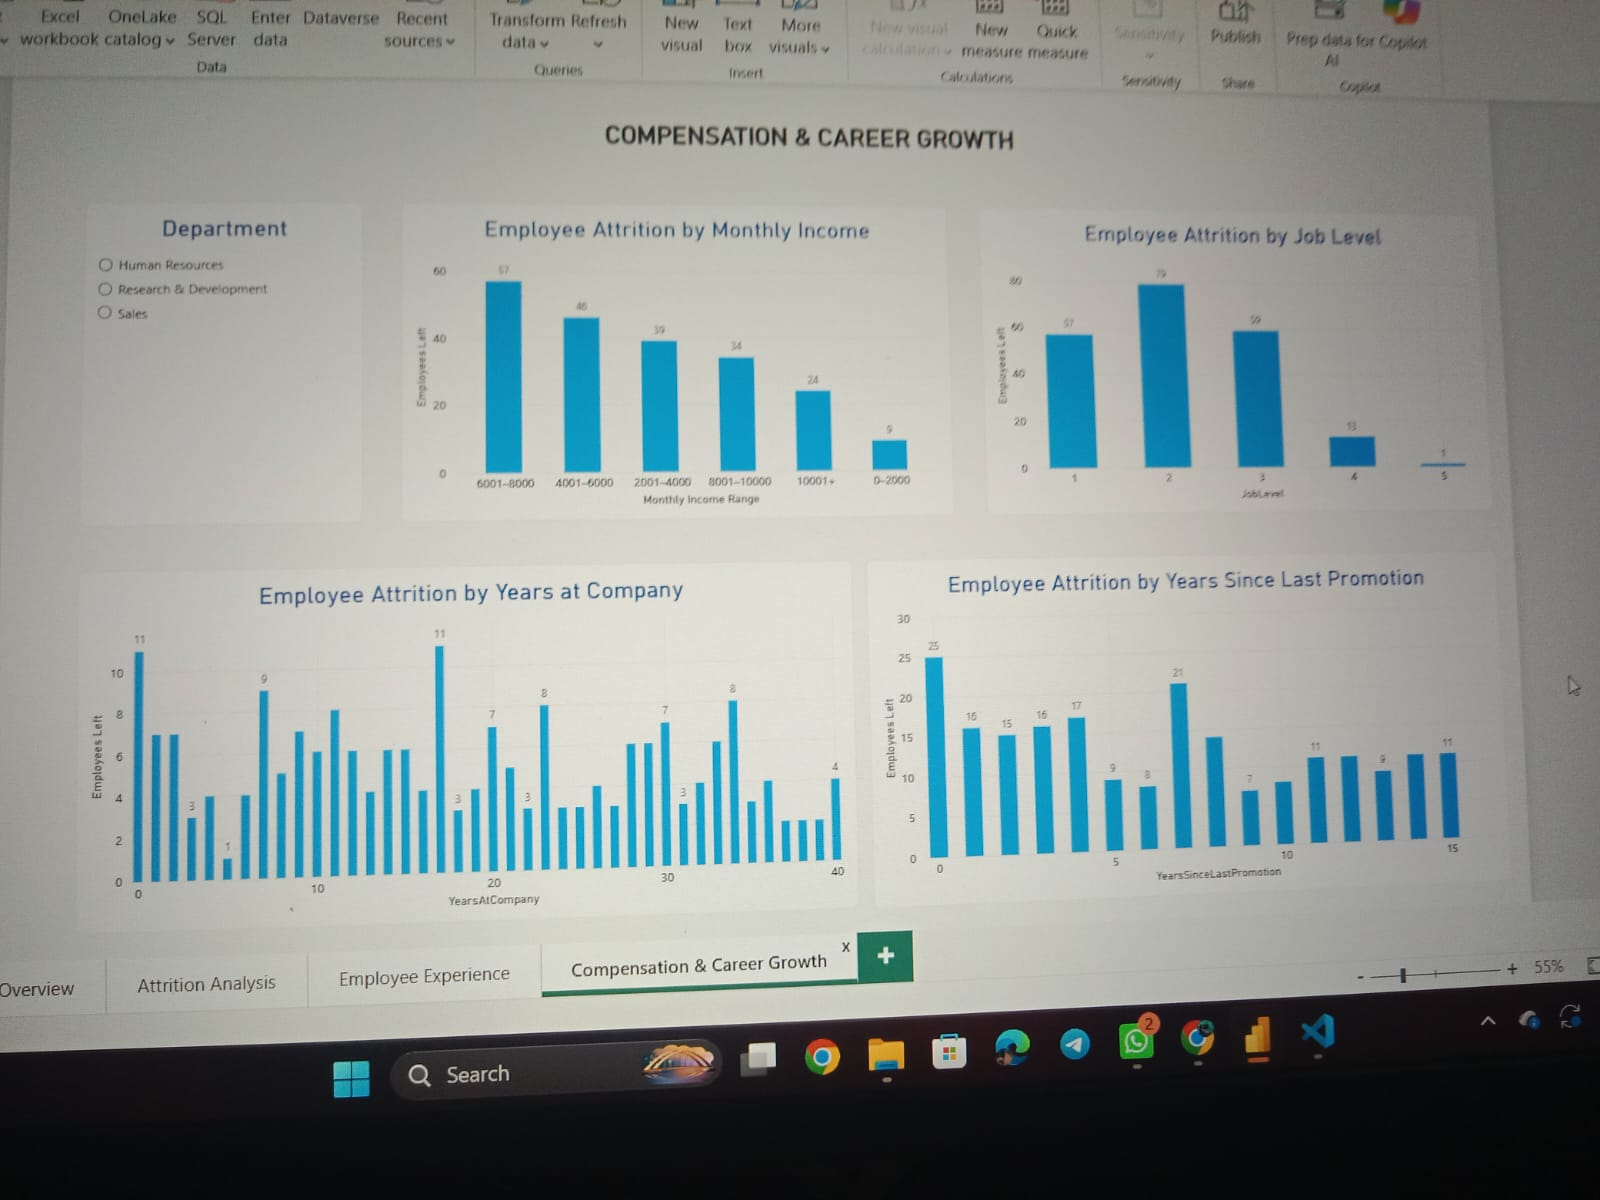

This screenshot's page, from the dashboard's own definition file:
{"tool":"powerbi","page":{"name":"Compensation & Career Growth","canvas":[1920,1080],"ordinal":3},"visuals":[{"type":"clusteredColumnChart","title":"Employee Attrition by Monthly Income","fields":{"Category":["hr_analytics employees.Monthly Income Range"],"Y":["hr_analytics employees.Employees Left"]},"box":[475.9,161.1,689.5,401.7],"z":0},{"type":"clusteredColumnChart","title":"Employee Attrition by Job Level","fields":{"Category":["hr_analytics employees.JobLevel"],"Y":["hr_analytics employees.Employees Left"]},"box":[1207,161.1,687.7,401.7],"z":1},{"type":"clusteredColumnChart","title":"Employee Attrition by Years at Company","fields":{"Category":["hr_analytics employees.YearsAtCompany"],"Y":["hr_analytics employees.Employees Left"]},"box":[92.3,617.1,939.2,432.5],"z":2},{"type":"clusteredColumnChart","title":"Employee Attrition by Years Since Last Promotion","fields":{"Category":["hr_analytics employees.YearsSinceLastPromotion"],"Y":["hr_analytics employees.Employees Left"]},"box":[1049.6,617.1,845.1,434.3],"z":3},{"type":"listSlicer","fields":{"Values":["hr_analytics employees.Department"]},"box":[92.3,161.1,336.6,401.7],"z":4},{"type":"textbox","title":"COMPENSATION & CAREER GROWTH","box":[92.3,52.5,1802.4,77.8],"z":5}]}

Visuals, with their boxes on the page's 1920x1080 design canvas (x1, y1, x2, y2). These are canvas units, not pixel positions in the 1600x1200 screenshot, which may show the page scaled, cropped or inside an application window:
"Employee Attrition by Monthly Income" clusteredColumnChart: l=476, t=161, r=1165, b=563
"Employee Attrition by Job Level" clusteredColumnChart: l=1207, t=161, r=1895, b=563
"Employee Attrition by Years at Company" clusteredColumnChart: l=92, t=617, r=1032, b=1050
"Employee Attrition by Years Since Last Promotion" clusteredColumnChart: l=1050, t=617, r=1895, b=1051
listSlicer - hr_analytics employees.Department: l=92, t=161, r=429, b=563
"COMPENSATION & CAREER GROWTH" textbox: l=92, t=52, r=1895, b=130
